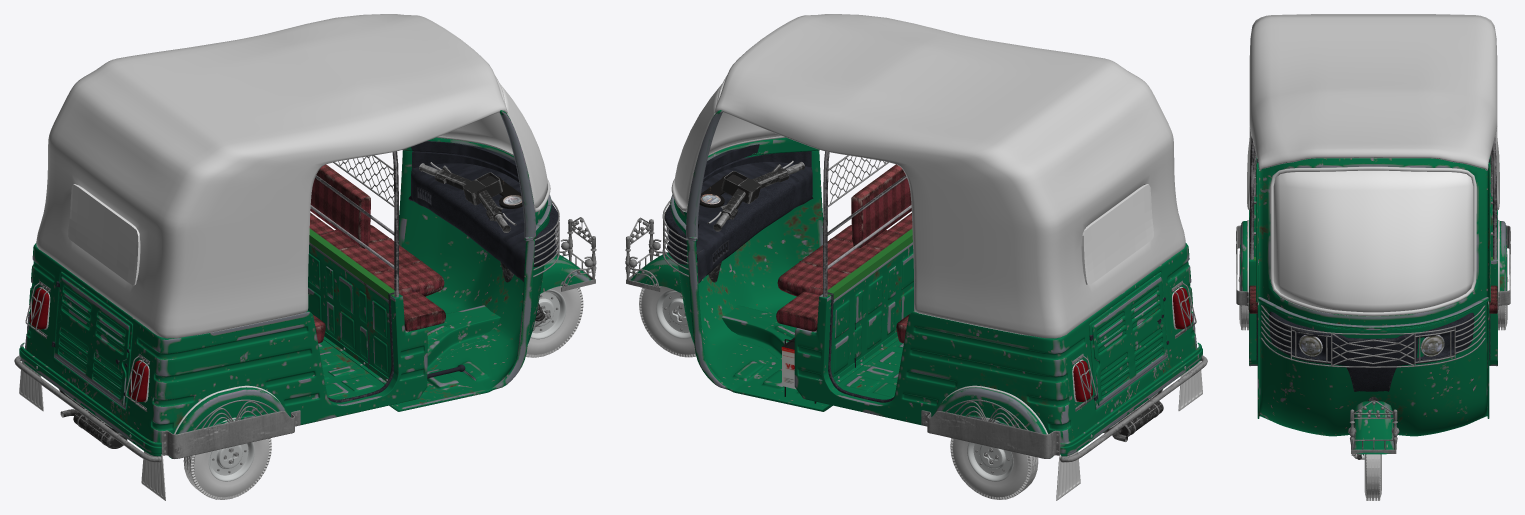
3 views of the same model, side by side, from view 1: azimuth 30°, elevation 25°; view 2: azimuth 150°, elevation 25°; view 3: azimuth 270°, elevation 25° (orthographic). The views are drawn at different scales.
Visible parts, largest first — view 1: hood, rear mud guard, Front bumper, Seat, switch, back glass, Tire, front glass _glass_0, Rim, mud flap, Steering, hood support (+4 smaller); view 2: hood, rear mud guard, Front bumper, Seat, switch, back glass, Tire, front glass _glass_0, Rim, mud flap, Steering, hood support (+5 smaller); view 3: hood, rear mud guard, front glass _glass_0, base cover, Front bumper, mud flap, Tire, hood support, light, Seat.
Boxes of the visible parts, box(x1,y1,x2,y2) form: hood: box(36, 14, 507, 338); rear mud guard: box(19, 110, 590, 458); Front bumper: box(14, 155, 596, 462); Seat: box(309, 164, 445, 343); switch: box(408, 141, 533, 281); back glass: box(68, 184, 140, 285); Tire: box(183, 285, 583, 499); front glass _glass_0: box(440, 84, 547, 208); Rim: box(208, 289, 566, 481); mud flap: box(19, 76, 550, 500); Steering: box(419, 162, 516, 232); hood support: box(310, 151, 398, 297); hood: box(714, 14, 1185, 338); rear mud guard: box(630, 110, 1202, 458); Front bumper: box(625, 155, 1207, 462); Seat: box(776, 164, 912, 343); switch: box(696, 144, 813, 283); back glass: box(1081, 184, 1153, 285); Tire: box(639, 285, 1038, 499); front glass _glass_0: box(674, 84, 782, 207); Rim: box(656, 290, 1013, 481); mud flap: box(671, 76, 1202, 500); Steering: box(707, 160, 804, 231); hood support: box(823, 151, 911, 297); hood: box(1247, 14, 1499, 209); rear mud guard: box(1240, 156, 1506, 454); front glass _glass_0: box(1273, 170, 1473, 312); base cover: box(1256, 159, 1490, 391); Front bumper: box(1236, 154, 1510, 453); mud flap: box(1238, 166, 1508, 316); Tire: box(1239, 249, 1507, 500); hood support: box(1249, 136, 1497, 259); light: box(1298, 335, 1444, 356); Seat: box(1249, 285, 1497, 313).
Bounding box in the file's own units: 2.5 × 1.6 × 1.27.
